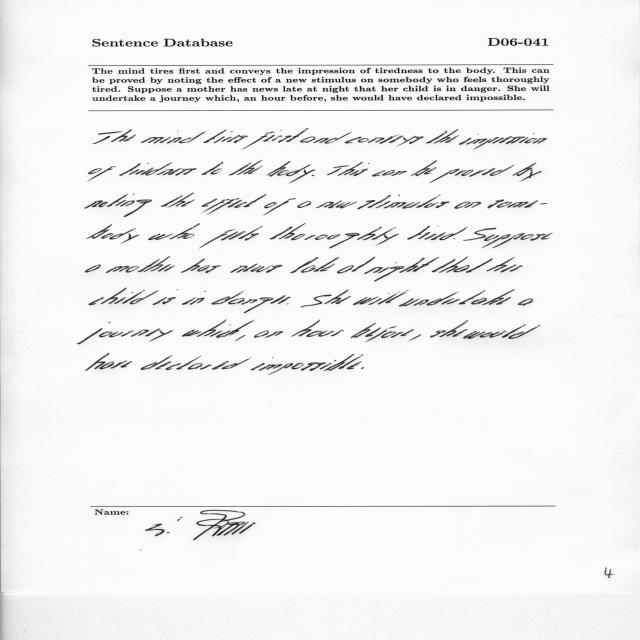word: (270, 223, 399, 248), (251, 354, 363, 375), (78, 322, 173, 344), (399, 289, 515, 307), (463, 228, 553, 248), (365, 257, 440, 281), (211, 291, 291, 313), (141, 355, 250, 370), (85, 193, 152, 217), (430, 165, 514, 183), (242, 128, 308, 150), (459, 134, 547, 150), (199, 226, 263, 248), (357, 195, 450, 210), (201, 194, 267, 215), (182, 320, 254, 338), (350, 323, 414, 342), (89, 288, 159, 305), (106, 256, 175, 273), (464, 324, 541, 339), (267, 161, 316, 184), (119, 162, 197, 176), (432, 256, 493, 273), (87, 224, 139, 243), (291, 319, 344, 337), (148, 223, 200, 240), (345, 135, 424, 146), (301, 290, 351, 307), (141, 131, 206, 144), (407, 226, 467, 240), (353, 290, 409, 305), (86, 353, 132, 371), (291, 257, 340, 273), (430, 320, 468, 338), (337, 257, 375, 274), (93, 129, 136, 144), (300, 132, 351, 144), (327, 162, 370, 176), (203, 130, 248, 143), (513, 162, 542, 182), (181, 259, 221, 273), (486, 257, 523, 272), (264, 199, 296, 216), (488, 200, 548, 209), (229, 160, 262, 176), (231, 263, 283, 273), (161, 193, 195, 208), (426, 129, 459, 144), (88, 166, 116, 181), (411, 160, 437, 176), (153, 289, 178, 305), (182, 291, 206, 305), (316, 201, 357, 209), (202, 162, 224, 175), (254, 330, 283, 338), (372, 170, 407, 176), (455, 202, 482, 209), (85, 265, 101, 273), (518, 299, 533, 306), (298, 201, 312, 208), (409, 334, 421, 341), (236, 335, 246, 341), (361, 367, 364, 369), (287, 303, 289, 305), (312, 175, 315, 176), (454, 238, 456, 239)
